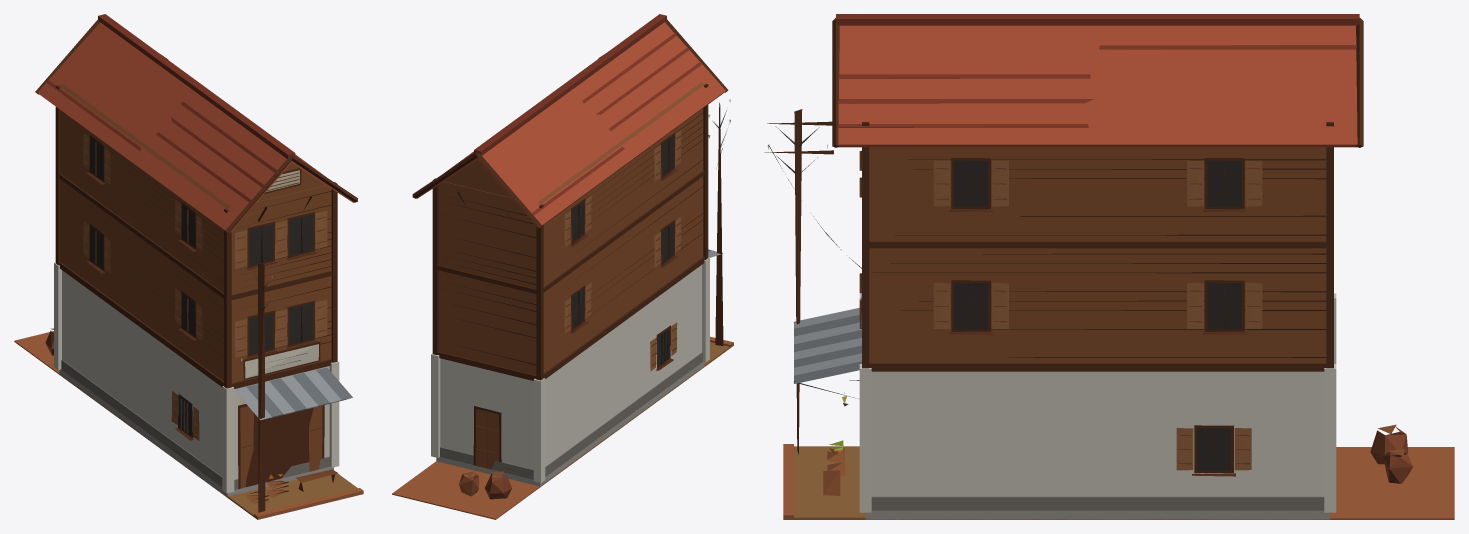
File: bay2_one.glb
The picture shows the model from 3 angles, left to right: view 1: azimuth 30°, elevation 25°; view 2: azimuth 150°, elevation 25°; view 3: azimuth 270°, elevation 25°; orthographic projection. The views are drawn at different scales.
Parts seen in each view (by area): view 1: body, windows; view 2: body, windows; view 3: body, windows.
Part boxes in pixels (x1,y1,x2,y2): body: (14,14,363,519); windows: (90,138,313,434); body: (392,14,733,519); windows: (572,135,674,365); body: (764,14,1454,519); windows: (842,160,1241,470).
Bounding box in the file's own units: 5.02 × 12.24 × 16.4.
